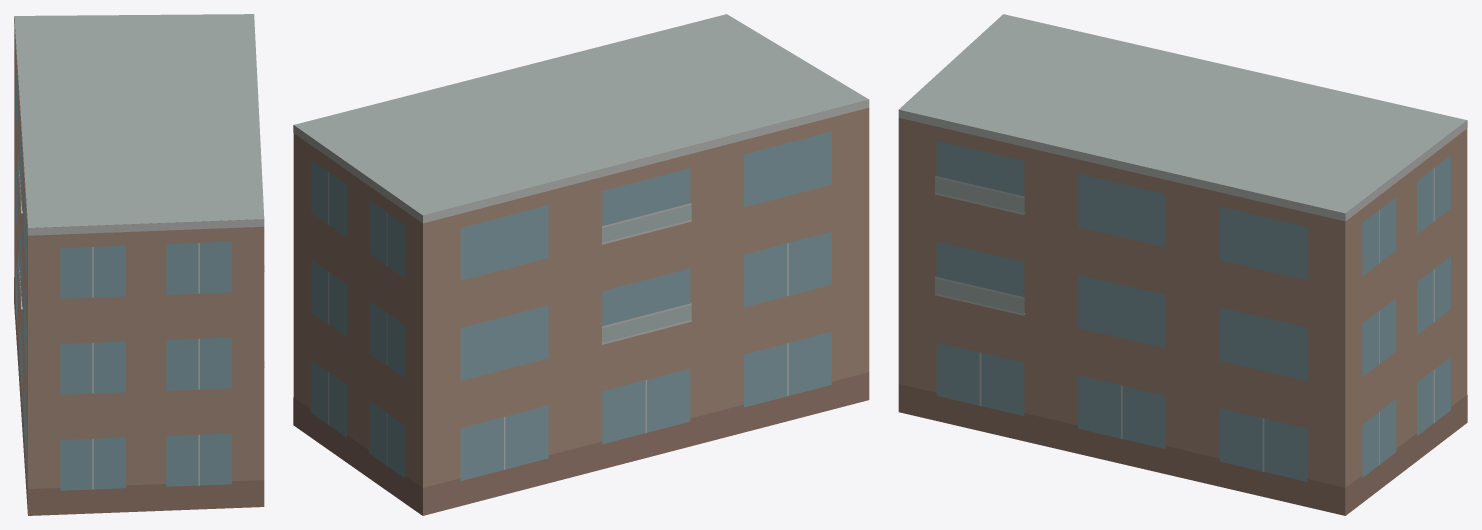
The model's file is survey-upis-32510494.glb.
3 renders of one model, left to right at view 1: azimuth 30°, elevation 25°; view 2: azimuth 150°, elevation 25°; view 3: azimuth 270°, elevation 25°, orthographic. The views are drawn at different scales.
Visible parts, largest first — view 1: survey-upis-32510494.tmp; view 2: survey-upis-32510494.tmp; view 3: survey-upis-32510494.tmp.
Boxes of the visible parts, left/top/right/bottom form: survey-upis-32510494.tmp: left=14, top=14, right=264, bottom=515; survey-upis-32510494.tmp: left=293, top=14, right=869, bottom=515; survey-upis-32510494.tmp: left=898, top=14, right=1467, bottom=515.
Size of the model in its own units: 12.95 by 9.15 by 15.61.
